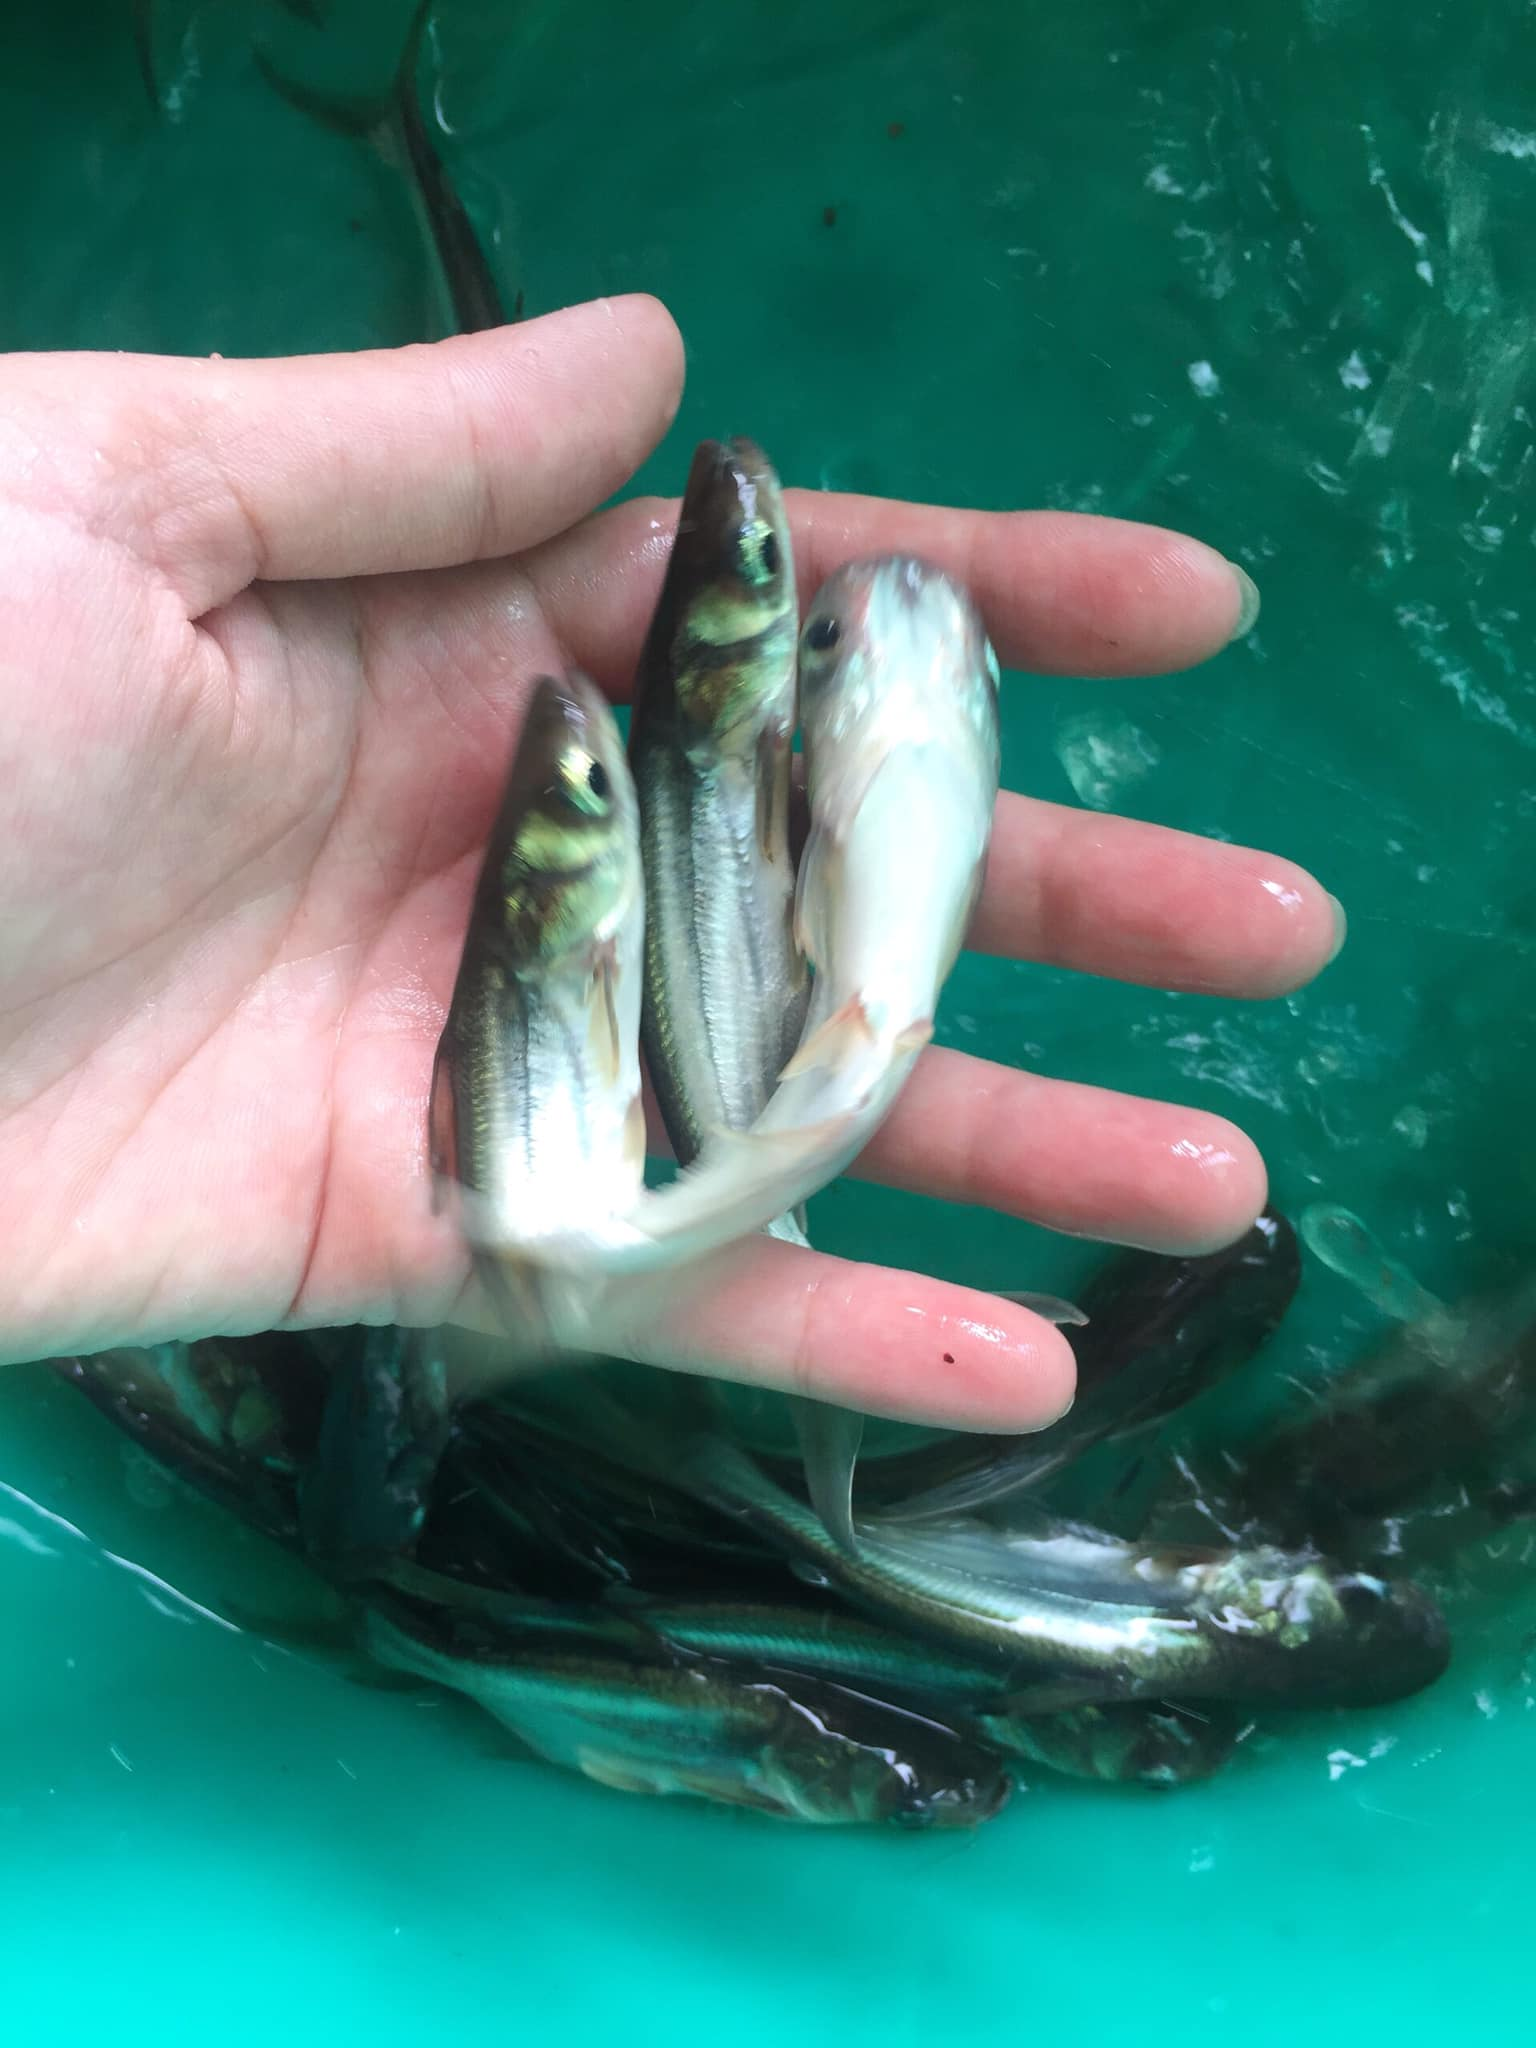fish: (800, 529, 986, 1177), (636, 435, 800, 1064), (461, 655, 629, 1208)
